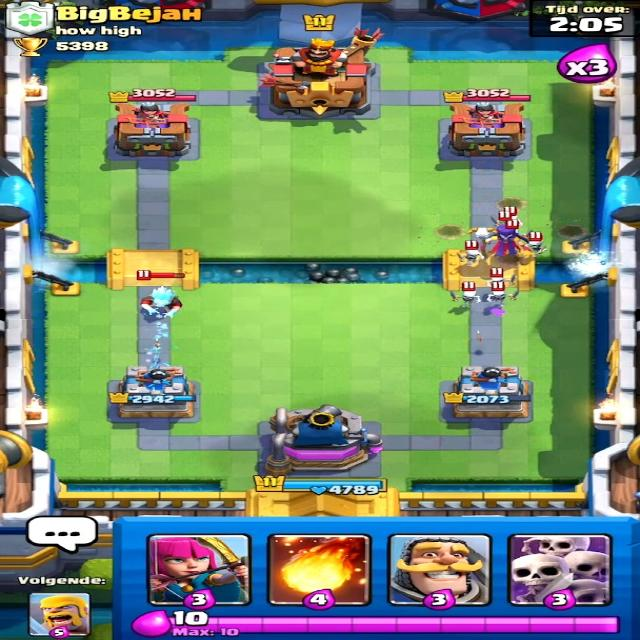Enemy_Ice_Wizard_Troop: (132, 288, 188, 316)
Enemy_Skeleton_Troop: (438, 278, 485, 306), (518, 234, 556, 254), (456, 247, 482, 270), (492, 288, 509, 304)
Enemy_Witch_Troop: (473, 218, 525, 266)
Fireball_Card: (270, 535, 368, 604)
